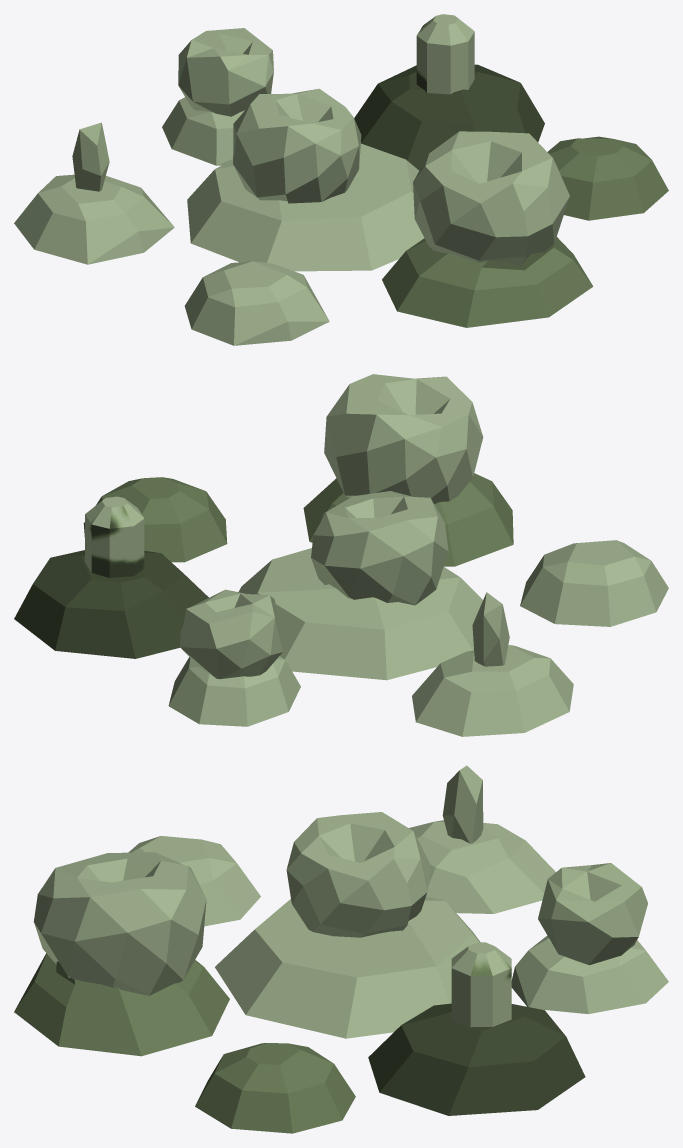
File: EA_Swamp_Fruit_01b.glb
3 views of the same model, one above another, from view 1: azimuth 30°, elevation 25°; view 2: azimuth 150°, elevation 25°; view 3: azimuth 270°, elevation 25° (orthographic). The views are drawn at different scales.
Parts seen in each view (by area): view 1: EA_Swamp_Fruit_01b; view 2: EA_Swamp_Fruit_01b; view 3: EA_Swamp_Fruit_01b.
Boxes of the visible parts, box(x1,y1,x2,y2) form: EA_Swamp_Fruit_01b: box(14, 14, 668, 345); EA_Swamp_Fruit_01b: box(14, 374, 668, 736); EA_Swamp_Fruit_01b: box(14, 765, 668, 1133).
Bounding box in the file's own units: 1.15 × 0.2667 × 1.1.
1 material, 1 textured.
